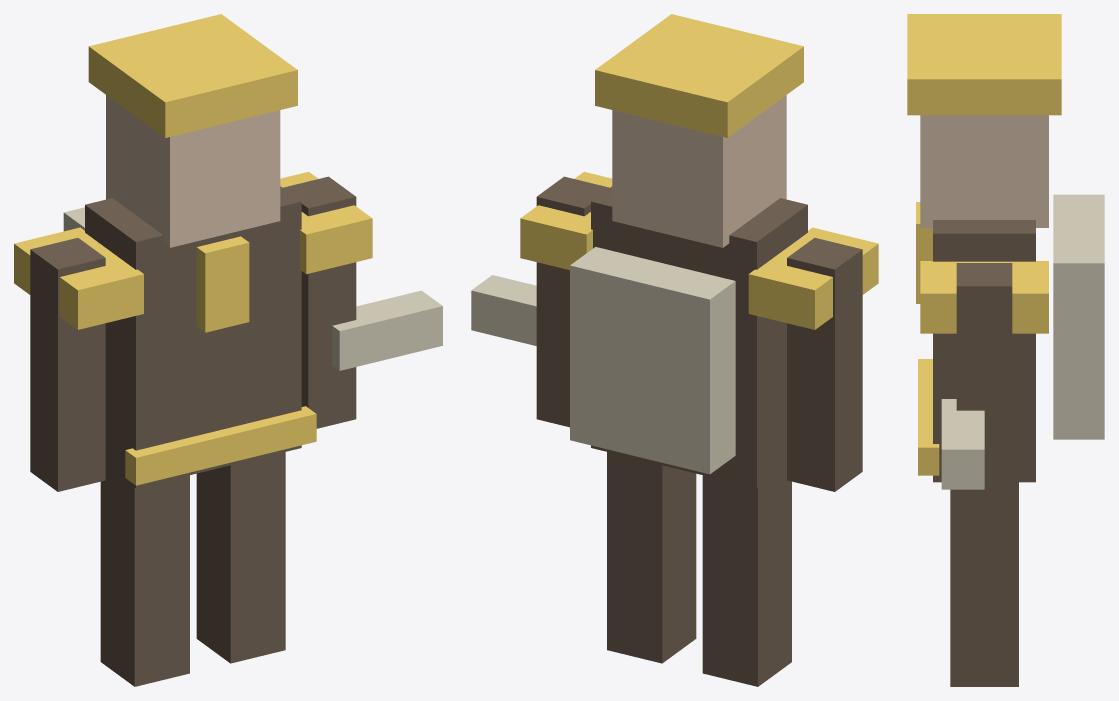
The model's file is 16_ren_holloway_cartographer_of_vendor.glb.
3 renders of one model, left to right at view 1: azimuth 30°, elevation 25°; view 2: azimuth 150°, elevation 25°; view 3: azimuth 270°, elevation 25°, orthographic.
Parts seen in each view (by area): view 1: Ren Holloway, Cartographer of Vendor; view 2: Ren Holloway, Cartographer of Vendor; view 3: Ren Holloway, Cartographer of Vendor.
Boxes of the visible parts, x1,y1,x2,y2 form: Ren Holloway, Cartographer of Vendor: (14, 14, 442, 686); Ren Holloway, Cartographer of Vendor: (471, 14, 878, 686); Ren Holloway, Cartographer of Vendor: (907, 14, 1104, 686).
Size of the model in its own units: 1.05 by 1.59 by 0.4722.
